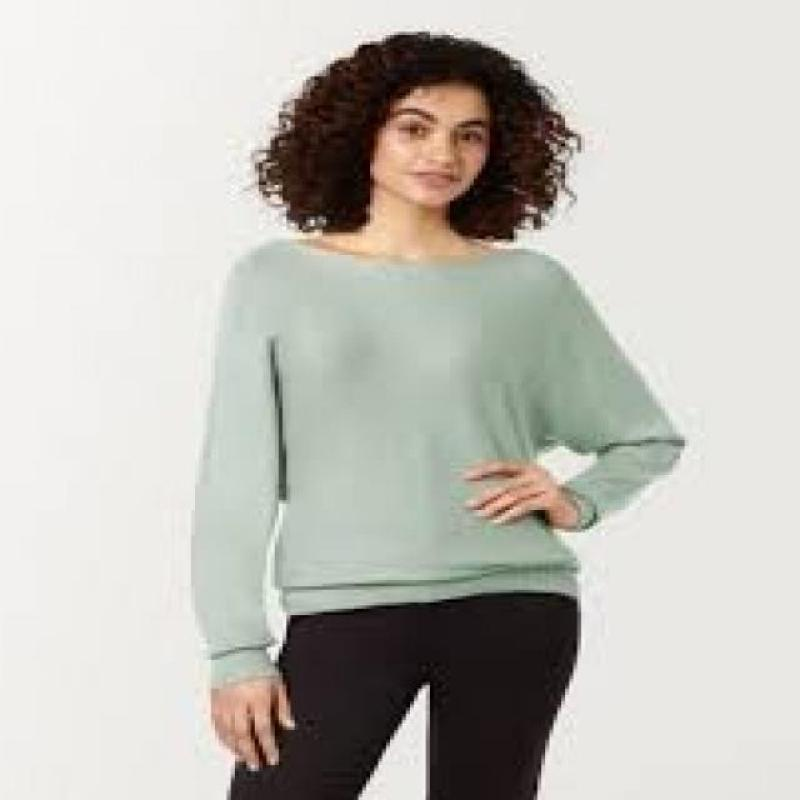sweater: (186, 236, 688, 684)
trousers: (228, 585, 584, 800)
